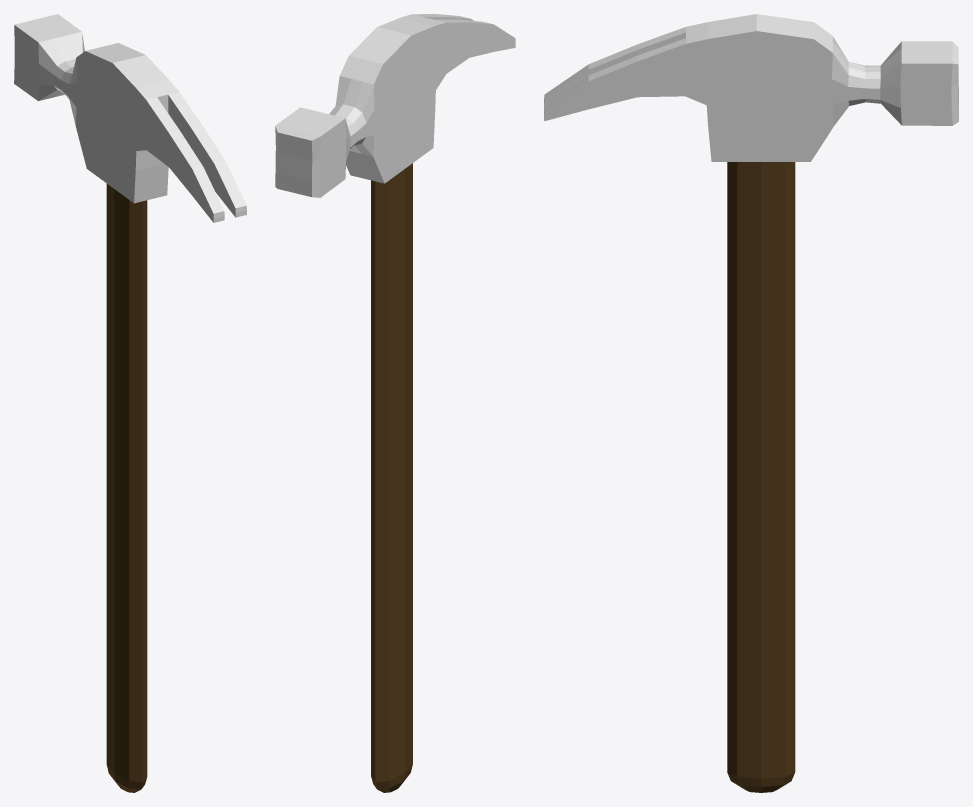
The model's file is hammer_simple.glb.
3 views of the same model, side by side, from view 1: azimuth 30°, elevation 25°; view 2: azimuth 150°, elevation 25°; view 3: azimuth 270°, elevation 25° (orthographic). The views are drawn at different scales.
Visible parts, largest first — view 1: hammer_simple; view 2: hammer_simple; view 3: hammer_simple.
Boxes of the visible parts, left/top/right/bottom form: hammer_simple: left=14, top=14, right=246, bottom=792; hammer_simple: left=275, top=14, right=515, bottom=792; hammer_simple: left=544, top=14, right=958, bottom=792.
Bounding box in the file's own units: 0.0201 × 0.3206 × 0.157.
